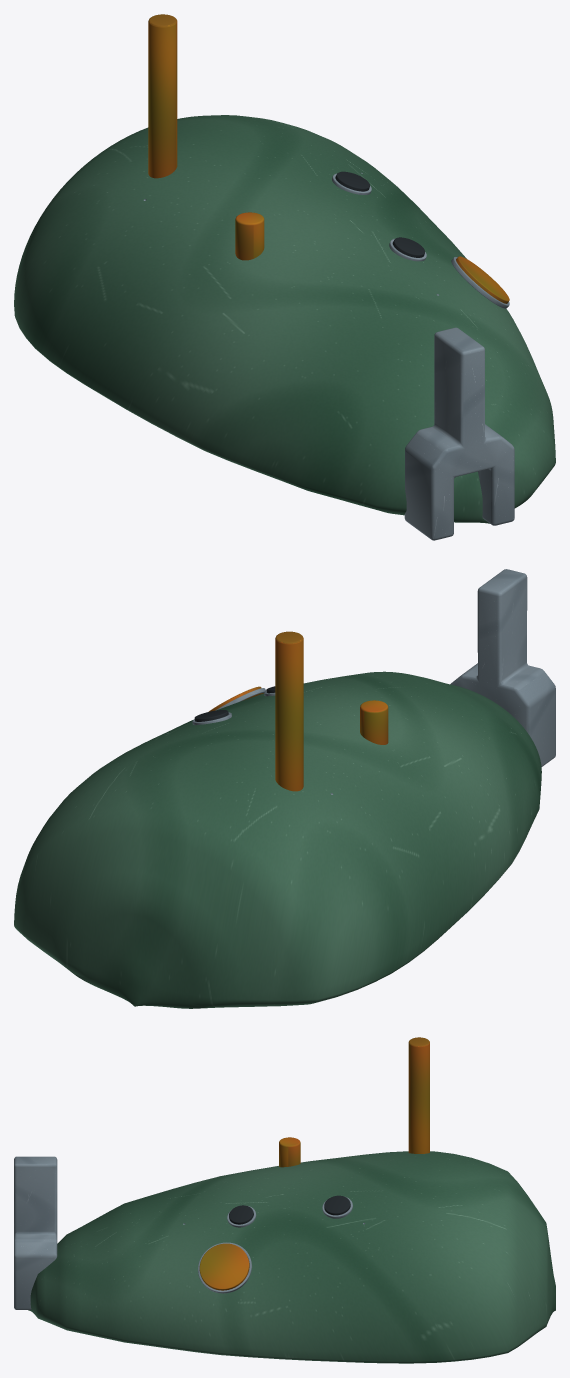
3 views of the same model, one above another, from view 1: azimuth 30°, elevation 25°; view 2: azimuth 150°, elevation 25°; view 3: azimuth 270°, elevation 25° (orthographic). The views are drawn at different scales.
Parts seen in each view (by area): view 1: Canisters low green habitation shell, Canisters silver fork and central stem, Canisters tall amber upright, Canisters short amber stub, Canisters large amber roof inset; view 2: Canisters low green habitation shell, Canisters silver fork and central stem, Canisters tall amber upright, Canisters short amber stub; view 3: Canisters low green habitation shell, Canisters silver fork and central stem, Canisters tall amber upright, Canisters large amber roof inset, Canisters short amber stub, Canisters dark roof inset 1, Canisters large amber roof inset clear rim.
Part boxes in pixels (box(x1,y1,x2,y2)): Canisters low green habitation shell: box(14, 115, 555, 523); Canisters silver fork and central stem: box(404, 327, 514, 540); Canisters tall amber upright: box(148, 14, 177, 178); Canisters short amber stub: box(235, 212, 264, 260); Canisters large amber roof inset: box(456, 256, 509, 303); Canisters low green habitation shell: box(14, 671, 541, 1008); Canisters silver fork and central stem: box(450, 569, 555, 766); Canisters tall amber upright: box(275, 631, 303, 791); Canisters short amber stub: box(360, 700, 388, 744); Canisters low green habitation shell: box(28, 1151, 555, 1363); Canisters silver fork and central stem: box(14, 1156, 57, 1309); Canisters tall amber upright: box(408, 1037, 429, 1153); Canisters large amber roof inset: box(199, 1243, 249, 1290); Canisters short amber stub: box(279, 1137, 300, 1167); Canisters dark roof inset 1: box(324, 1195, 350, 1215); Canisters large amber roof inset clear rim: box(198, 1242, 251, 1293).
Size of the model in its own units: 1.33 by 1.13 by 2.26.
Materials: 4 (3 with a texture image).
